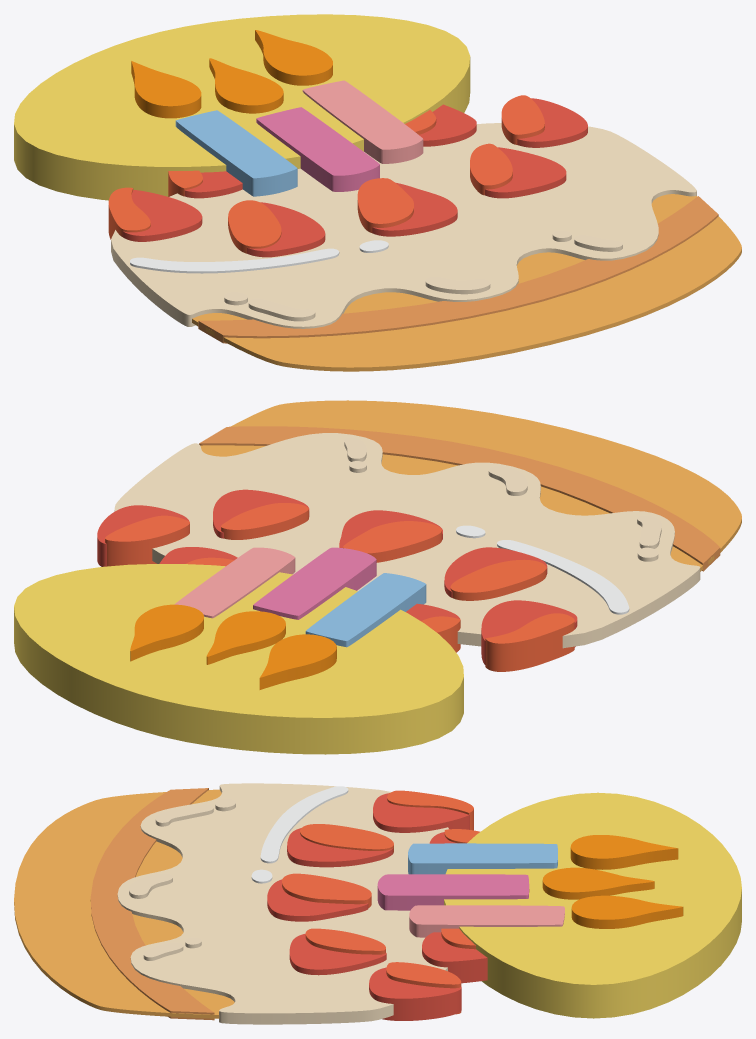
The model's file is emoji_u1f382.glb.
3 views of the same model, one above another, from view 1: azimuth 30°, elevation 25°; view 2: azimuth 150°, elevation 25°; view 3: azimuth 270°, elevation 25° (orthographic). The views are drawn at different scales.
Visible parts, largest first — view 1: emoji_u1f382; view 2: emoji_u1f382; view 3: emoji_u1f382.
Part boxes in pixels (x1=…): emoji_u1f382: x1=14, y1=14, x2=741, y2=371; emoji_u1f382: x1=14, y1=400, x2=741, y2=754; emoji_u1f382: x1=14, y1=783, x2=741, y2=1024.
Bounding box in the file's own units: 0.0265 × 0.003 × 0.0354.
